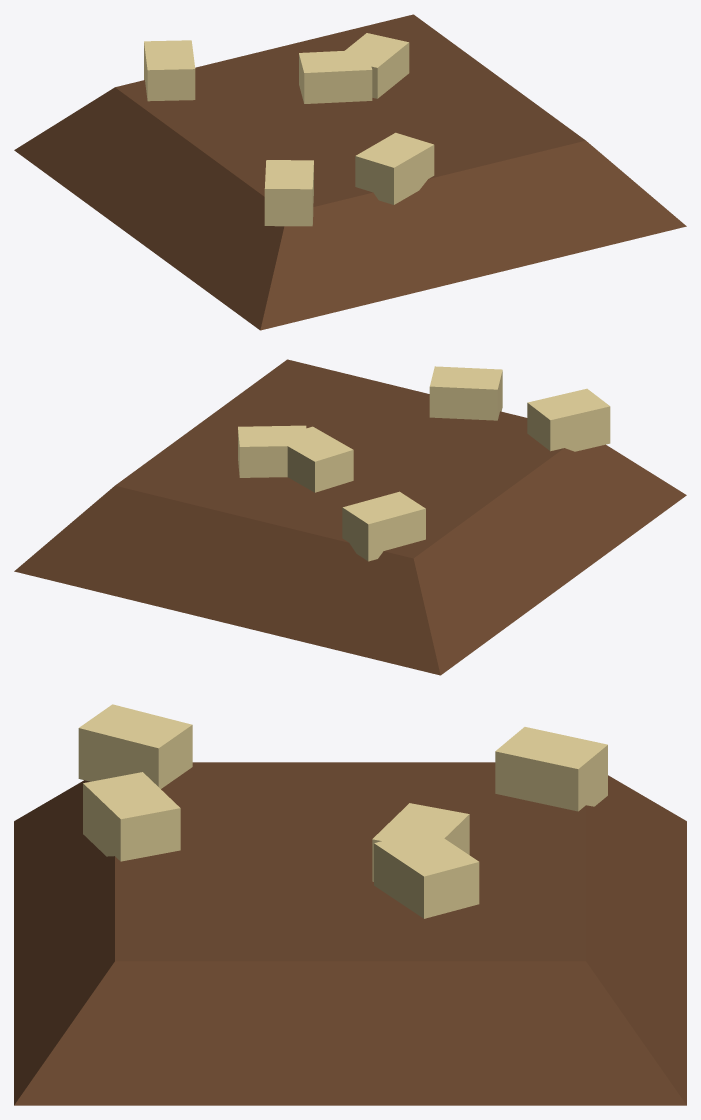
Rendered from tomato_0.obj.
3 views of the same model, one above another, from view 1: azimuth 30°, elevation 25°; view 2: azimuth 150°, elevation 25°; view 3: azimuth 270°, elevation 25° (orthographic). The views are drawn at different scales.
Parts seen in each view (by area): view 1: plant; view 2: plant; view 3: plant.
Boxes of the visible parts, x1,y1,x2,y2 form: plant: (14,14,686,330); plant: (14,359,686,675); plant: (14,704,686,1105).
Size of the model in its own units: 0.36 by 0.085 by 0.36.
